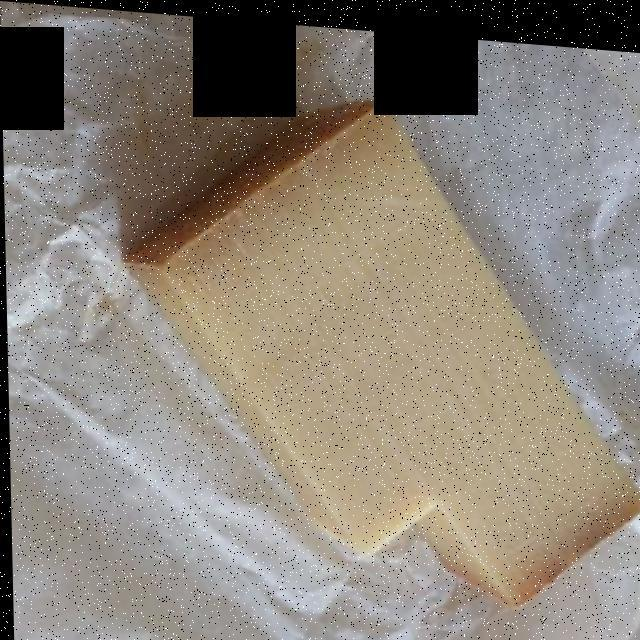cheese: (136, 100, 631, 592)
